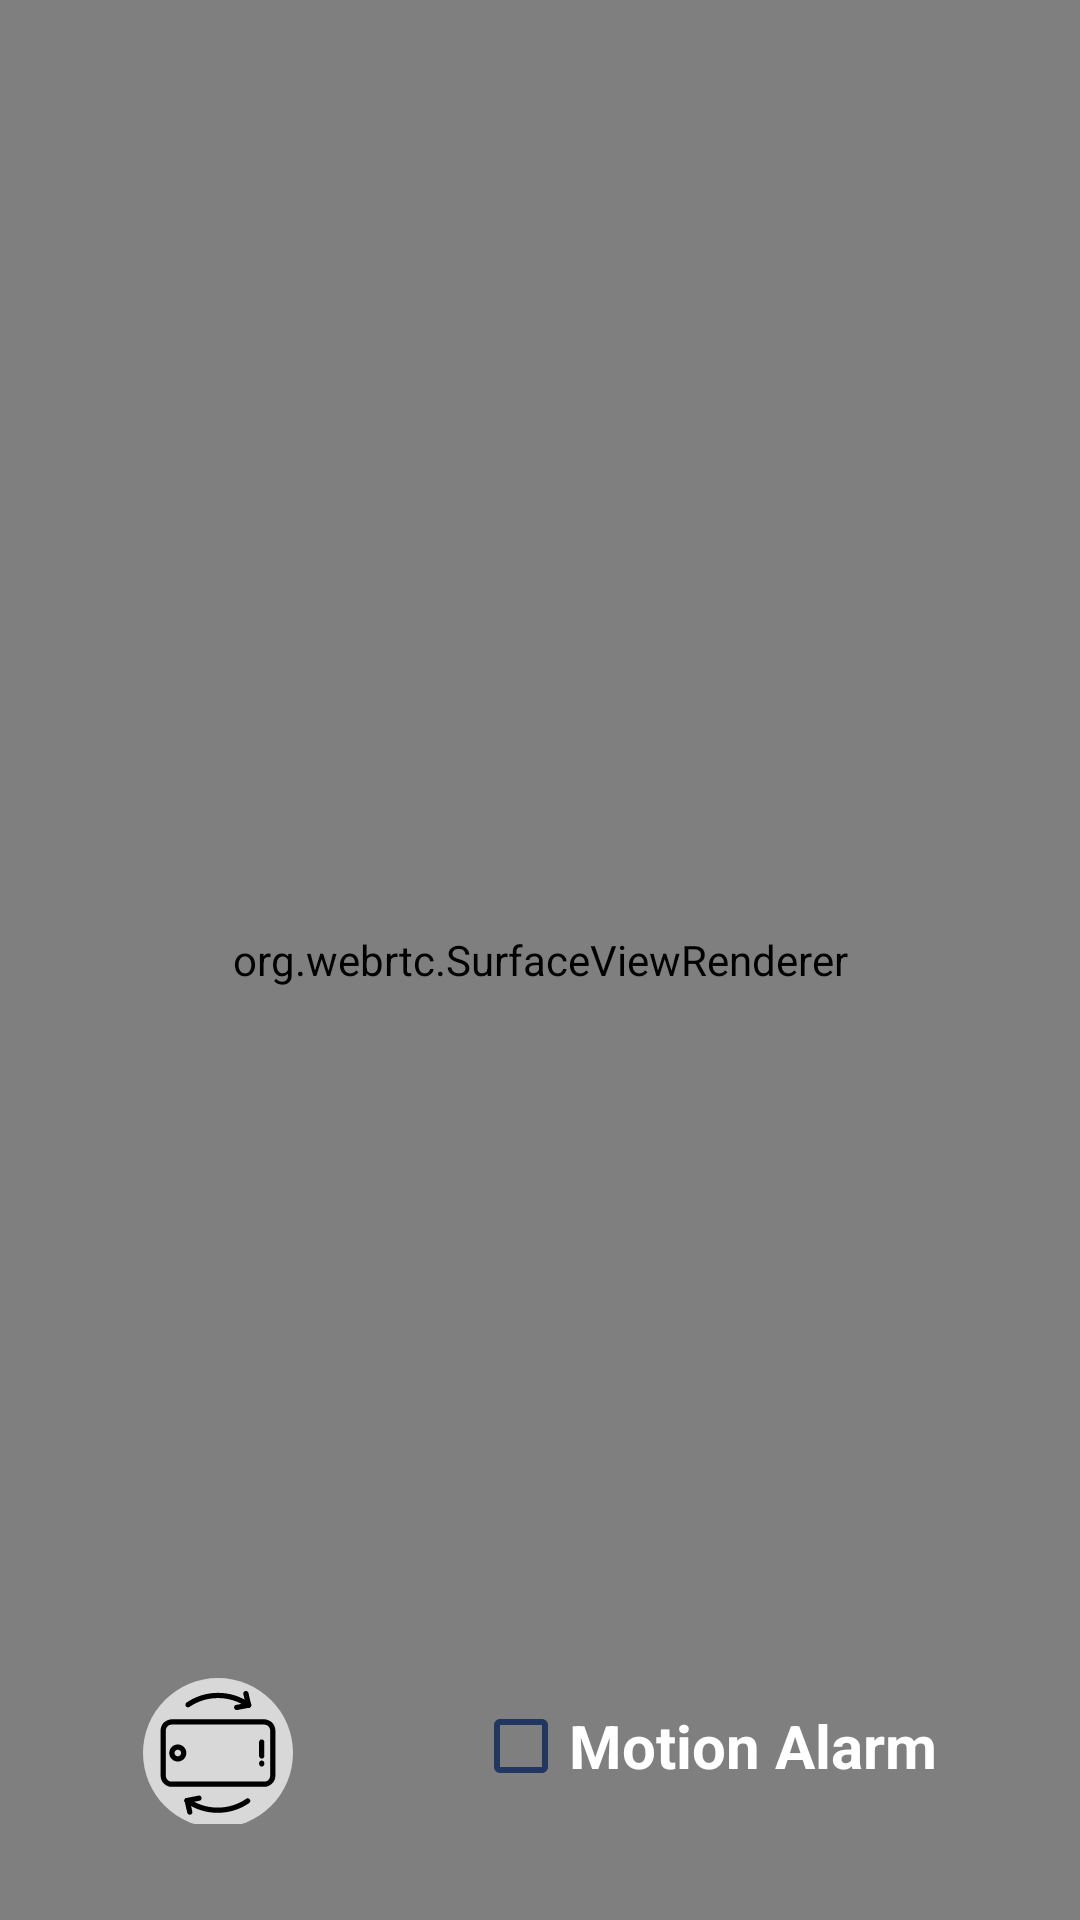

Where icons sit on this 1080x1920 app screen, as (x1, y1, x2, y2):
rotate: (143, 1678, 293, 1824)
